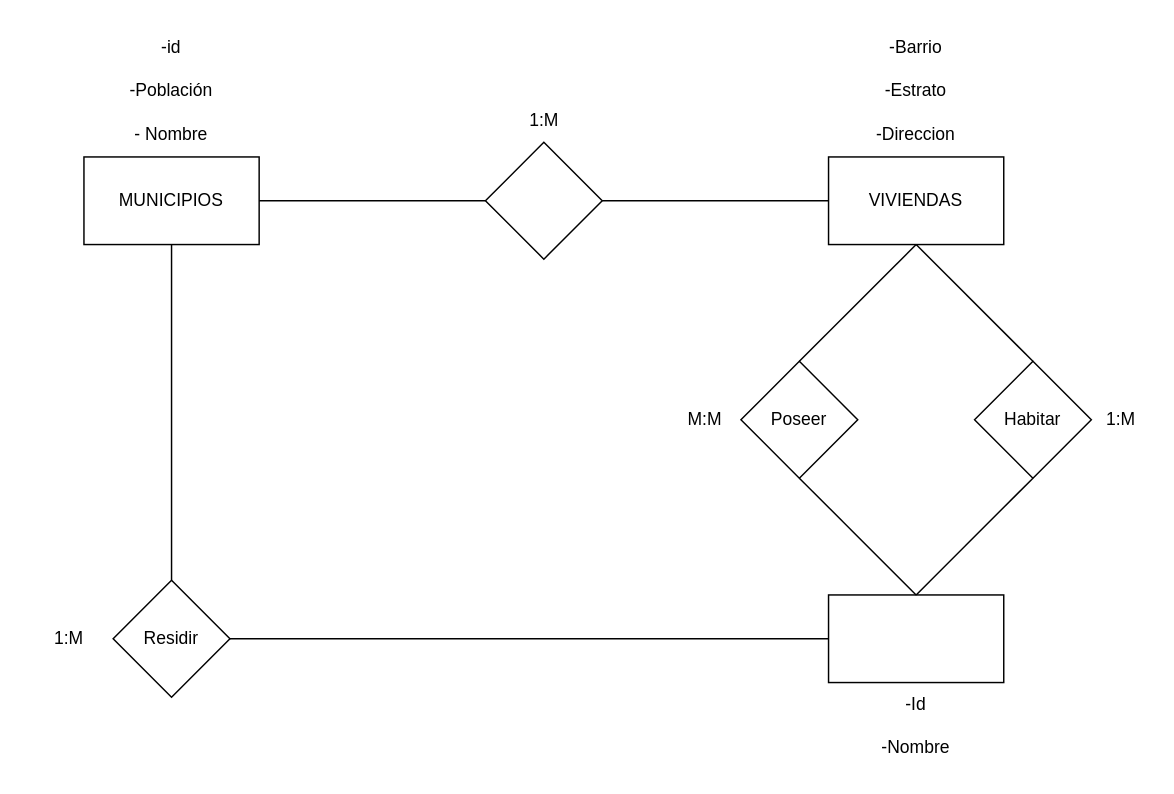
Image size: 1174x794. Some labels were removed from this diagram. Each missing label, with the box of its shape:
PERSONAS: (827, 593, 1004, 683)
Pertenece: (484, 141, 602, 259)
